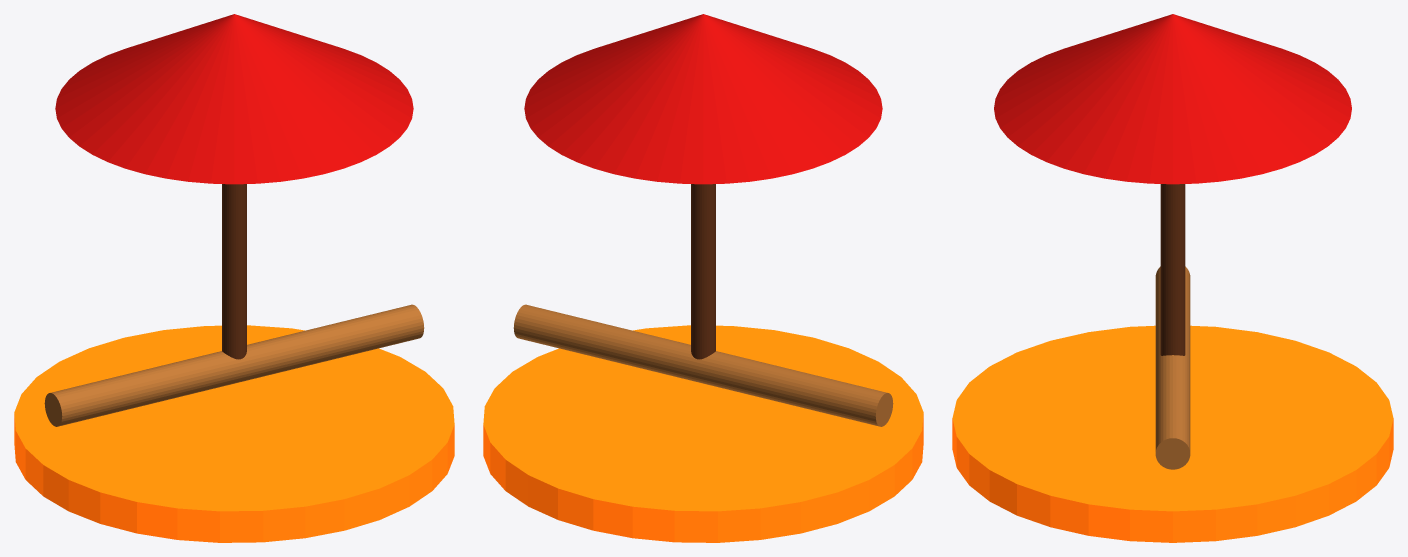
File: spanish_beach_umbrella.dae
The picture shows the model from 3 angles, left to right: view 1: azimuth 30°, elevation 25°; view 2: azimuth 150°, elevation 25°; view 3: azimuth 270°, elevation 25°; orthographic projection.
Parts seen in each view (by area): view 1: 11_12_Popular_Spanish_Beach_Umbrella_ROOT_base, 11_12_Popular_Spanish_Beach_Umbrella_part_02, 11_12_Popular_Spanish_Beach_Umbrella_part_03, 11_12_Popular_Spanish_Beach_Umbrella_part_01; view 2: 11_12_Popular_Spanish_Beach_Umbrella_ROOT_base, 11_12_Popular_Spanish_Beach_Umbrella_part_02, 11_12_Popular_Spanish_Beach_Umbrella_part_03, 11_12_Popular_Spanish_Beach_Umbrella_part_01; view 3: 11_12_Popular_Spanish_Beach_Umbrella_ROOT_base, 11_12_Popular_Spanish_Beach_Umbrella_part_02, 11_12_Popular_Spanish_Beach_Umbrella_part_03, 11_12_Popular_Spanish_Beach_Umbrella_part_01.
Boxes of the visible parts, x1,y1,x2,y2 form: 11_12_Popular_Spanish_Beach_Umbrella_ROOT_base: (14,325,454,542); 11_12_Popular_Spanish_Beach_Umbrella_part_02: (55,14,413,184); 11_12_Popular_Spanish_Beach_Umbrella_part_03: (44,304,424,426); 11_12_Popular_Spanish_Beach_Umbrella_part_01: (222,184,246,359); 11_12_Popular_Spanish_Beach_Umbrella_ROOT_base: (483,325,923,542); 11_12_Popular_Spanish_Beach_Umbrella_part_02: (524,14,882,184); 11_12_Popular_Spanish_Beach_Umbrella_part_03: (513,304,893,426); 11_12_Popular_Spanish_Beach_Umbrella_part_01: (691,184,715,359); 11_12_Popular_Spanish_Beach_Umbrella_ROOT_base: (952,325,1393,542); 11_12_Popular_Spanish_Beach_Umbrella_part_02: (994,14,1351,184); 11_12_Popular_Spanish_Beach_Umbrella_part_03: (1155,266,1190,469); 11_12_Popular_Spanish_Beach_Umbrella_part_01: (1160,184,1185,355).
Size of the model in its own units: 0.76 by 0.8286 by 0.76.
